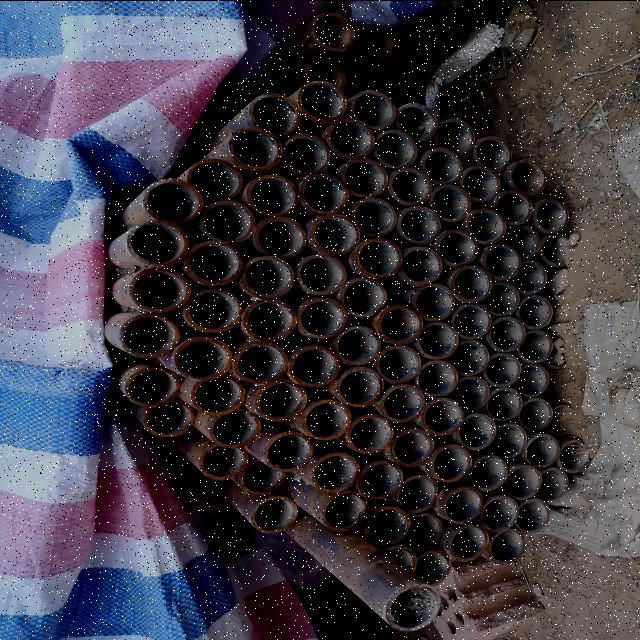pipe: (126, 264, 190, 312), (125, 220, 189, 264), (386, 582, 442, 632), (118, 313, 178, 359), (143, 178, 203, 224), (184, 239, 242, 285), (173, 336, 230, 380), (184, 289, 240, 333), (186, 158, 242, 202), (242, 256, 296, 300), (228, 126, 282, 170), (233, 341, 288, 384), (198, 200, 254, 242), (241, 298, 297, 340), (254, 379, 308, 422), (248, 92, 302, 135), (122, 366, 180, 406), (208, 406, 262, 448), (288, 344, 340, 387), (254, 215, 306, 258), (245, 173, 297, 216), (297, 79, 347, 123), (300, 398, 352, 440), (190, 375, 243, 415), (310, 213, 360, 255), (262, 430, 314, 470), (281, 132, 330, 174), (298, 297, 348, 338), (298, 253, 348, 294), (321, 489, 369, 531), (346, 412, 394, 454), (354, 236, 402, 278), (310, 452, 360, 492), (298, 173, 348, 213), (338, 277, 388, 317), (356, 458, 403, 500), (362, 504, 410, 545), (328, 117, 376, 158), (143, 400, 193, 439), (334, 324, 380, 366), (336, 366, 384, 406), (376, 304, 424, 344), (198, 442, 248, 479), (310, 10, 354, 52), (350, 89, 396, 129), (251, 494, 299, 532), (389, 427, 434, 467), (350, 197, 396, 236), (239, 458, 286, 496), (341, 158, 388, 196), (380, 383, 424, 423), (375, 345, 421, 383), (410, 283, 456, 321), (373, 129, 418, 167), (396, 474, 440, 512), (441, 486, 485, 524), (398, 246, 442, 284), (396, 102, 438, 141), (421, 397, 464, 435), (398, 206, 441, 244), (414, 359, 458, 396), (388, 168, 432, 205), (402, 511, 444, 549), (430, 444, 472, 482), (450, 264, 492, 302), (420, 146, 462, 184), (480, 243, 522, 281), (415, 321, 458, 358), (409, 550, 450, 588), (436, 228, 477, 266), (464, 207, 506, 244), (448, 523, 488, 561), (468, 454, 508, 492), (430, 184, 470, 222), (494, 188, 534, 226), (450, 302, 491, 339), (478, 495, 520, 531), (432, 118, 474, 154), (458, 412, 496, 450), (449, 375, 489, 411), (449, 340, 489, 376), (460, 166, 500, 202), (472, 135, 512, 171), (508, 158, 548, 194), (358, 22, 398, 58), (301, 60, 347, 90), (376, 544, 419, 576), (486, 528, 524, 564), (504, 464, 542, 500), (482, 280, 520, 316), (532, 198, 570, 234), (482, 352, 521, 387), (514, 497, 550, 533), (524, 432, 560, 468), (516, 396, 552, 432), (513, 362, 549, 398), (504, 224, 540, 260), (488, 317, 526, 351), (491, 422, 526, 458), (486, 386, 522, 421), (511, 259, 547, 294), (517, 329, 553, 363), (516, 295, 552, 329), (540, 232, 576, 266), (558, 437, 590, 474), (433, 14, 469, 46), (536, 466, 568, 501), (538, 267, 568, 303), (548, 400, 576, 436), (542, 338, 568, 372)
